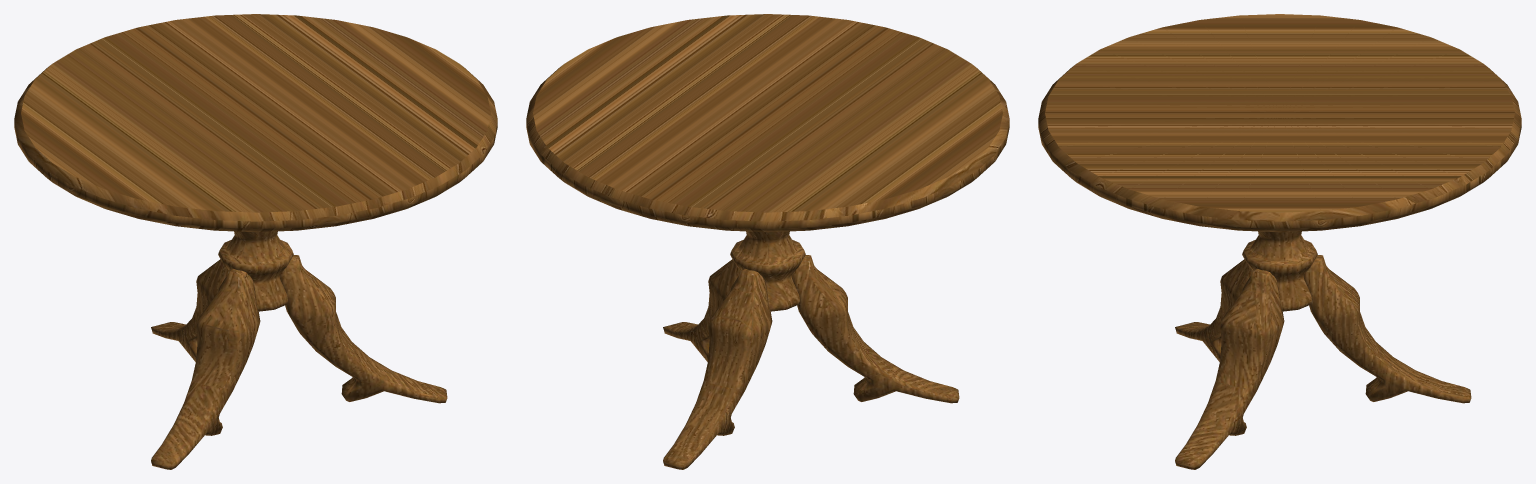
Rendered from wooden-coffe-table.obj.
3 views of the same model, side by side, from view 1: azimuth 30°, elevation 25°; view 2: azimuth 150°, elevation 25°; view 3: azimuth 270°, elevation 25° (orthographic).
Visible parts, largest first — view 1: top, Null; view 2: top, Null; view 3: top, Null.
Part boxes in pixels (x1=…): top: x1=14, y1=14, x2=497, y2=232; Null: x1=151, y1=231, x2=447, y2=469; top: x1=526, y1=14, x2=1009, y2=232; Null: x1=663, y1=231, x2=959, y2=469; top: x1=1038, y1=14, x2=1521, y2=232; Null: x1=1175, y1=231, x2=1471, y2=469.
Bounding box in the file's own units: 2.28 × 1.49 × 2.28.
Materials: 2 (2 with a texture image).
